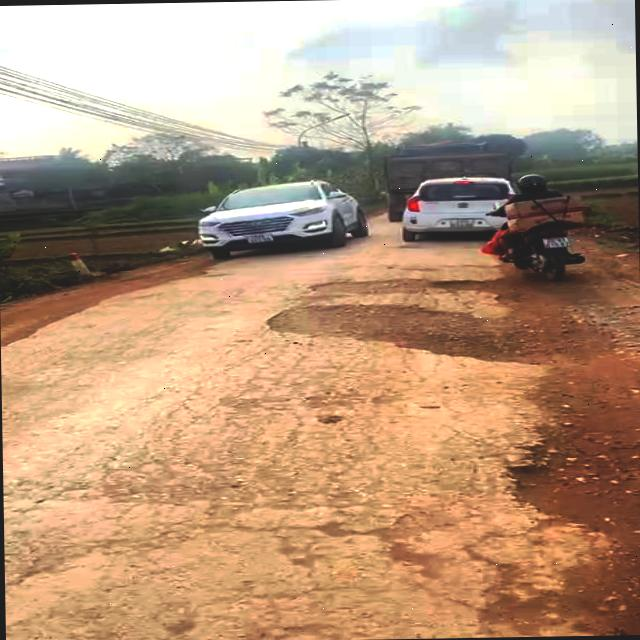pothole: (355, 516, 640, 639), (258, 300, 554, 370), (487, 413, 640, 540), (304, 274, 510, 302)
